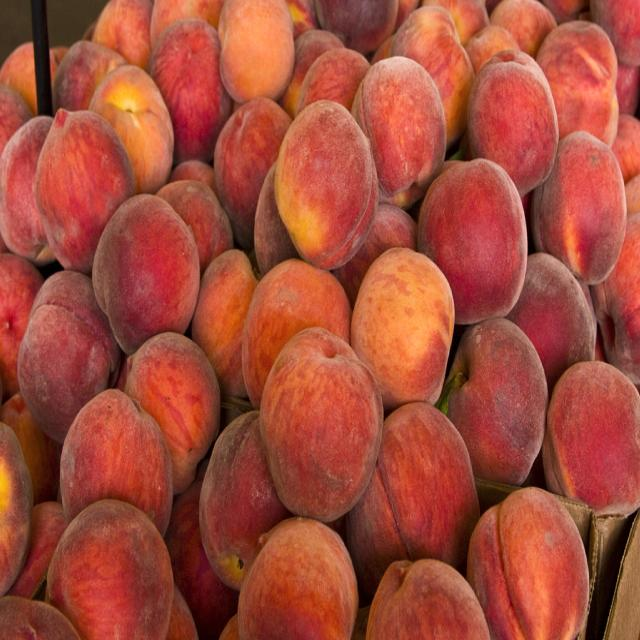Peach: (0, 0, 639, 639), (350, 247, 456, 404)
